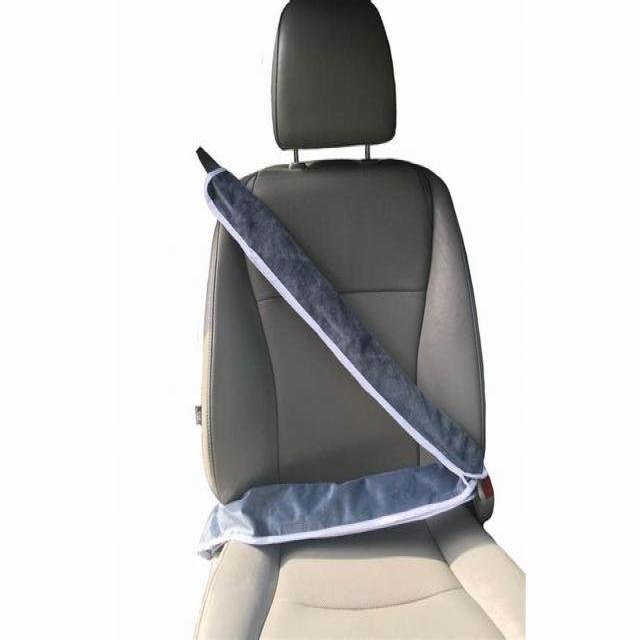no-seatbelt: (171, 104, 548, 570)
